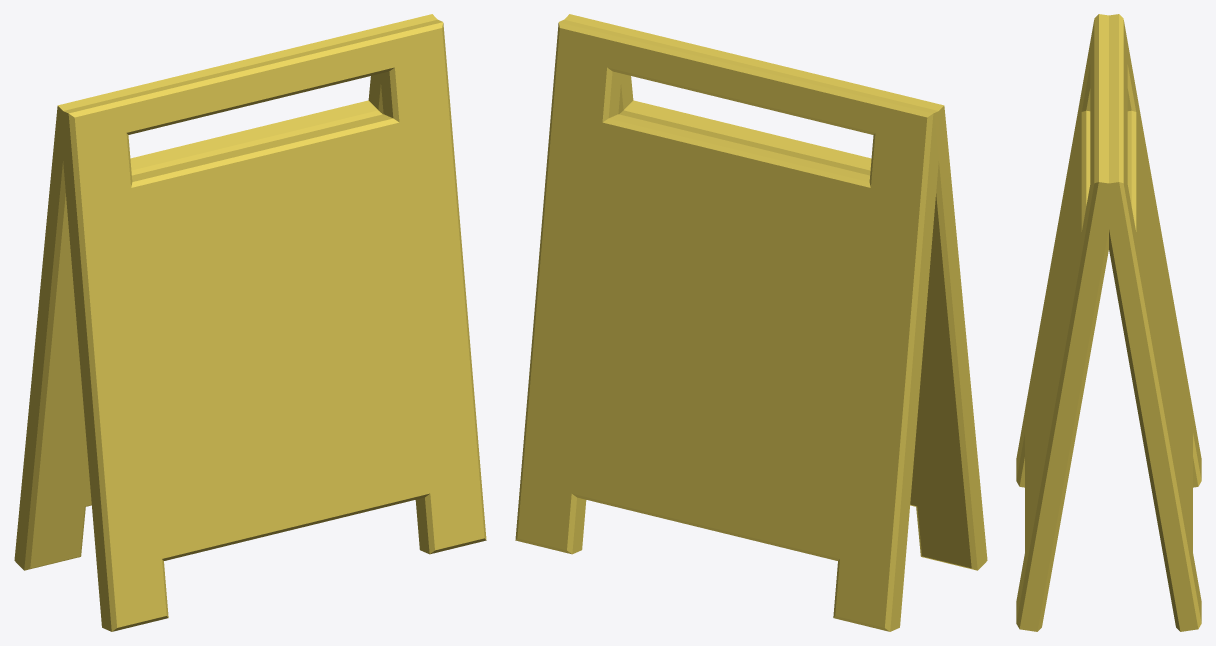
File: CautionWetFloor_Sign.fbx
3 renders of one model, left to right at view 1: azimuth 30°, elevation 25°; view 2: azimuth 150°, elevation 25°; view 3: azimuth 270°, elevation 25°, orthographic. The views are drawn at different scales.
Parts seen in each view (by area): view 1: group31_pasted__pCube14; view 2: group31_pasted__pCube14; view 3: group31_pasted__pCube14.
Part boxes in pixels (x1,y1,x2,y2): group31_pasted__pCube14: [14, 14, 486, 631]; group31_pasted__pCube14: [515, 14, 987, 631]; group31_pasted__pCube14: [1016, 14, 1201, 631].
Bounding box in the file's own units: 0.6141 × 0.7668 × 0.2862.
